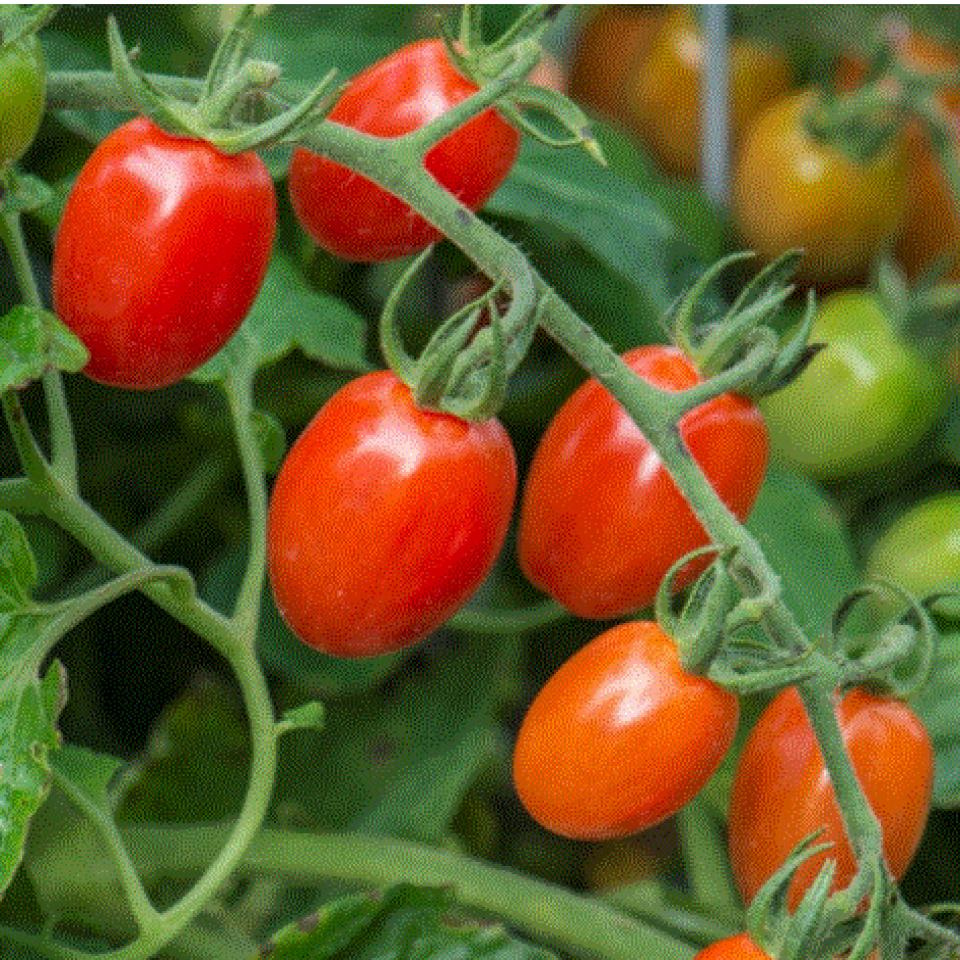Healthy: (534, 282, 789, 621), (281, 352, 529, 673), (63, 103, 276, 376), (742, 670, 948, 912), (299, 33, 524, 251), (532, 619, 722, 848), (774, 640, 794, 851)
